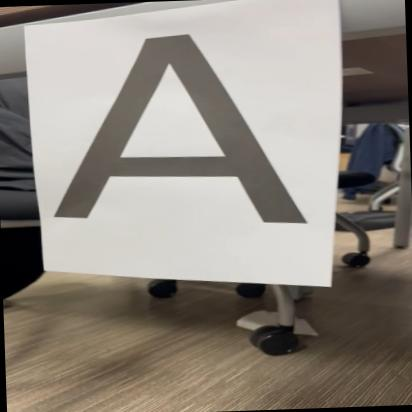seat: (43, 28, 318, 240)
